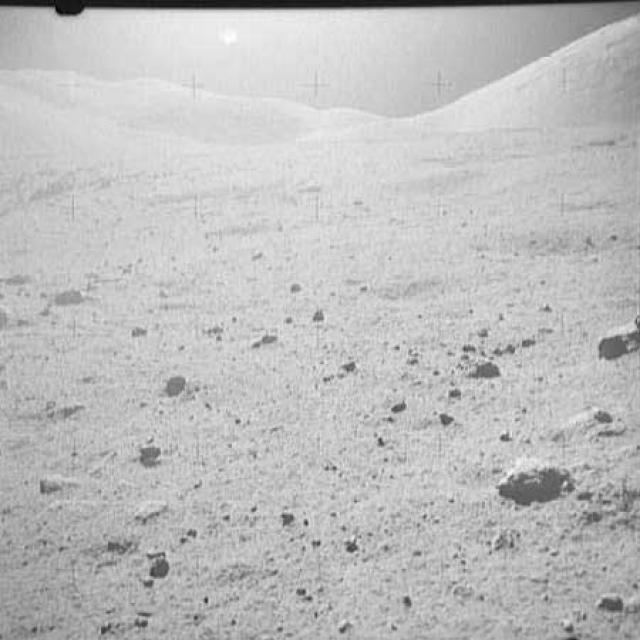crater: (488, 222, 627, 258)
rock: (494, 444, 570, 500), (590, 303, 639, 355), (461, 351, 502, 383), (130, 434, 165, 462), (50, 279, 82, 306), (246, 331, 278, 346)
